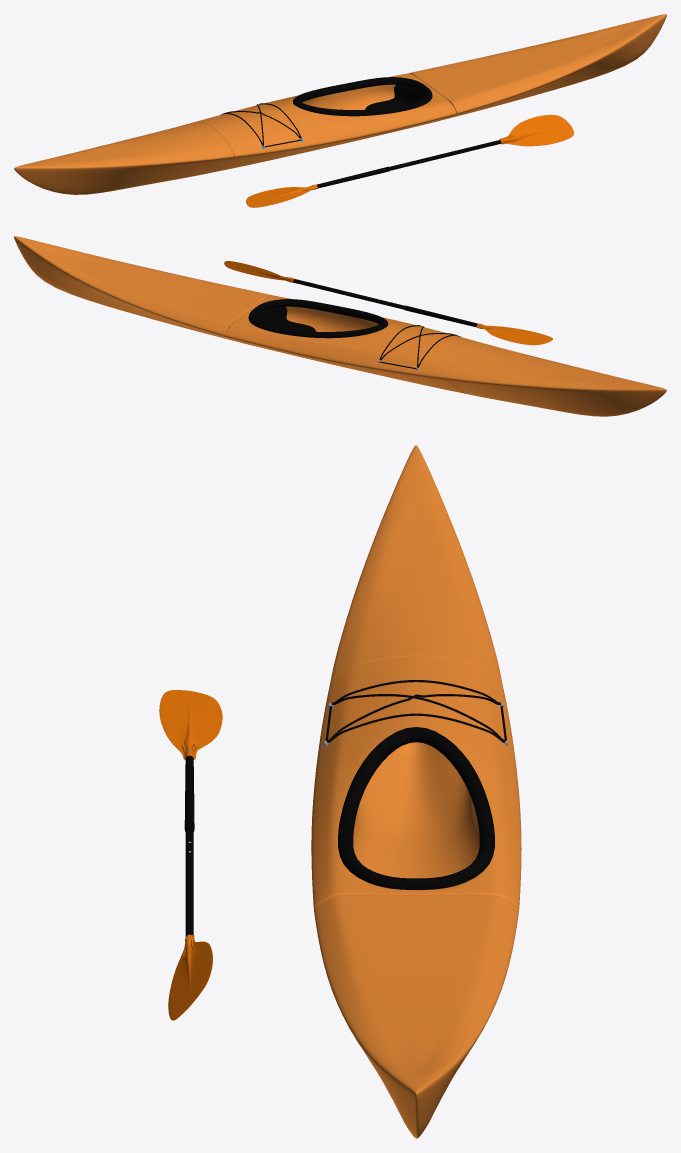
File: Kayak with Paddle1.fbx
3 views of the same model, one above another, from view 1: azimuth 30°, elevation 25°; view 2: azimuth 150°, elevation 25°; view 3: azimuth 270°, elevation 25° (orthographic). The views are drawn at different scales.
Parts seen in each view (by area): view 1: Kayak, Paddle, Padding, Kayak.001, Elastic; view 2: Kayak, Paddle, Padding, Kayak.001, Elastic; view 3: Kayak, Paddle, Padding, Elastic.
Boxes of the visible parts, x1,y1,x2,y2 form: Kayak: (14, 14, 666, 194); Paddle: (246, 114, 573, 207); Padding: (292, 77, 432, 116); Kayak.001: (365, 85, 424, 109); Elastic: (221, 103, 301, 147); Kayak: (14, 236, 666, 416); Paddle: (224, 261, 552, 345); Padding: (248, 299, 387, 338); Kayak.001: (256, 307, 315, 331); Elastic: (379, 325, 459, 369); Kayak: (311, 445, 521, 1138); Paddle: (159, 690, 222, 1020); Padding: (338, 727, 494, 889); Elastic: (325, 680, 506, 742).
Size of the model in its own units: 221 by 18.24 by 52.99.
